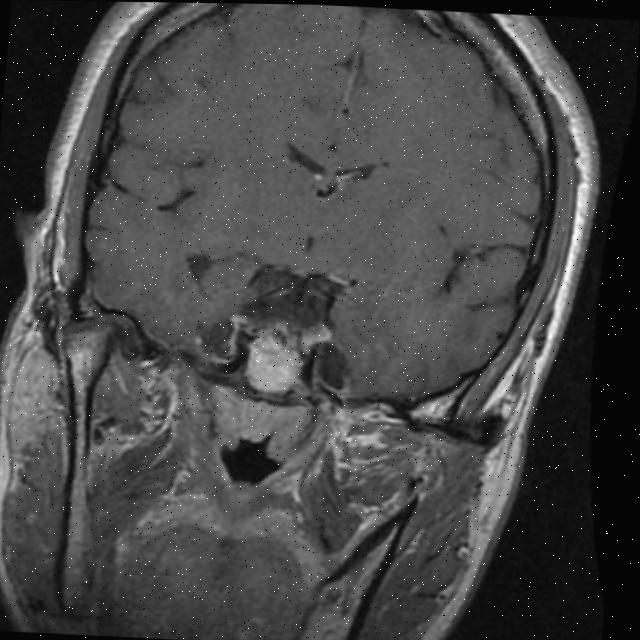Pituitary: (242, 326, 305, 393)
